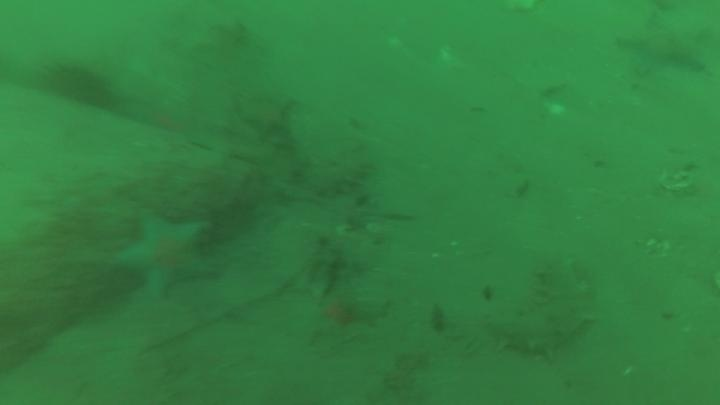echinus: (43, 59, 118, 112)
holothurian: (487, 253, 597, 360), (307, 149, 375, 200)
starfish: (113, 209, 219, 303), (614, 7, 715, 80), (237, 90, 299, 146)
